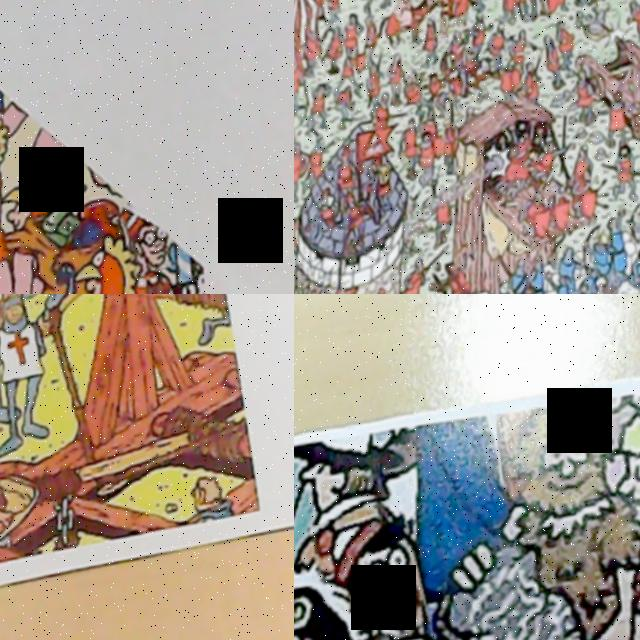waldo: (309, 500, 437, 640), (121, 198, 182, 285), (511, 86, 531, 110)
